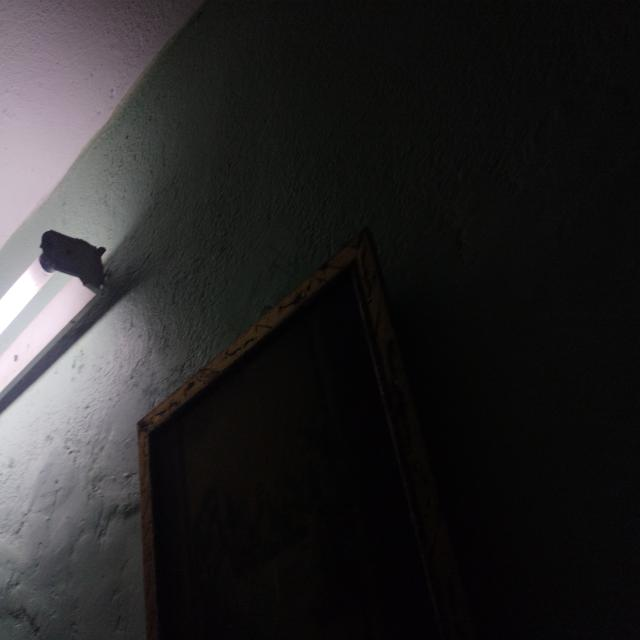tubelight_on: (3, 207, 130, 401)
